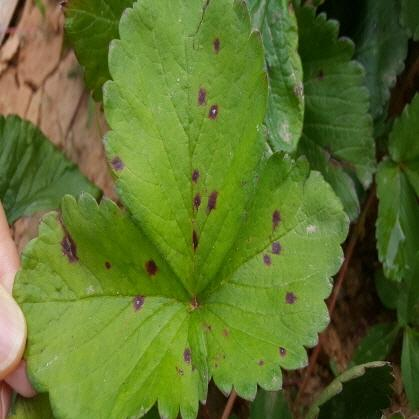Leaf Spot: (101, 0, 268, 300), (10, 190, 207, 418), (194, 149, 350, 402), (290, 0, 379, 221)
